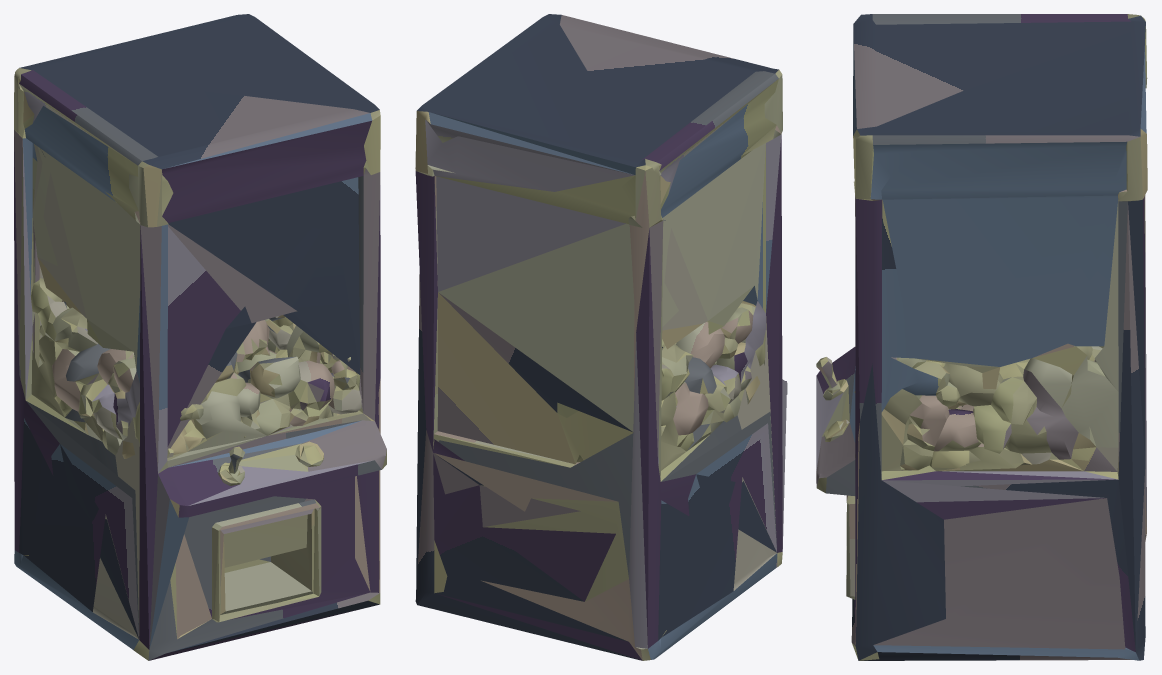
File: claw2.glb
The picture shows the model from 3 angles, left to right: view 1: azimuth 30°, elevation 25°; view 2: azimuth 150°, elevation 25°; view 3: azimuth 270°, elevation 25°; orthographic projection. The views are drawn at different scales.
Parts seen in each view (by area): view 1: Mesh_0; view 2: Mesh_0; view 3: Mesh_0.
Part boxes in pixels (x1,y1,x2,y2): Mesh_0: (14,14,386,660); Mesh_0: (415,14,787,660); Mesh_0: (816,14,1147,660).
Bounding box in the file's own units: 0.984 × 1.9 × 1.08.
1 material, 1 textured.
